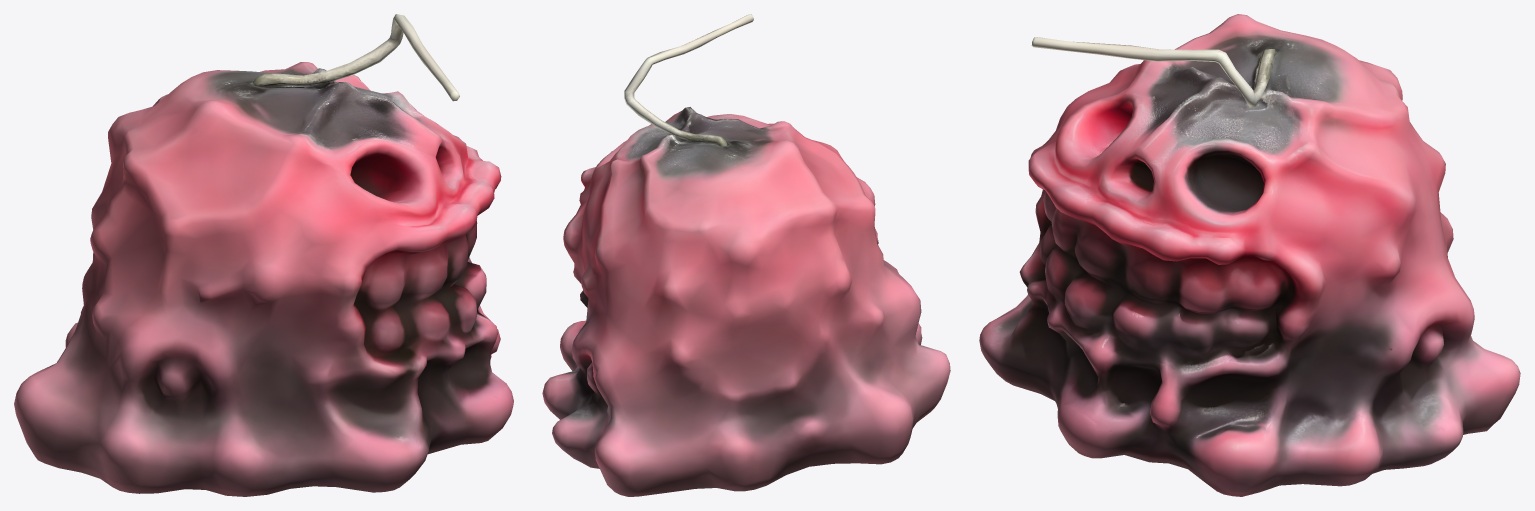
The model's file is 骷髅蜡烛.glb.
The picture shows the model from 3 angles, left to right: view 1: azimuth 30°, elevation 25°; view 2: azimuth 150°, elevation 25°; view 3: azimuth 270°, elevation 25°; orthographic projection. The views are drawn at different scales.
Parts seen in each view (by area): view 1: tripo_node_f177ff37-04e0-4e37-b25d-91bc2848a651; view 2: tripo_node_f177ff37-04e0-4e37-b25d-91bc2848a651; view 3: tripo_node_f177ff37-04e0-4e37-b25d-91bc2848a651.
Boxes of the visible parts, <box> form: tripo_node_f177ff37-04e0-4e37-b25d-91bc2848a651: <box>14,14,513,496</box>; tripo_node_f177ff37-04e0-4e37-b25d-91bc2848a651: <box>542,14,950,496</box>; tripo_node_f177ff37-04e0-4e37-b25d-91bc2848a651: <box>979,14,1520,496</box>.
Size of the model in its own units: 1.03 by 0.9229 by 1.07.
1 material, 1 textured.
